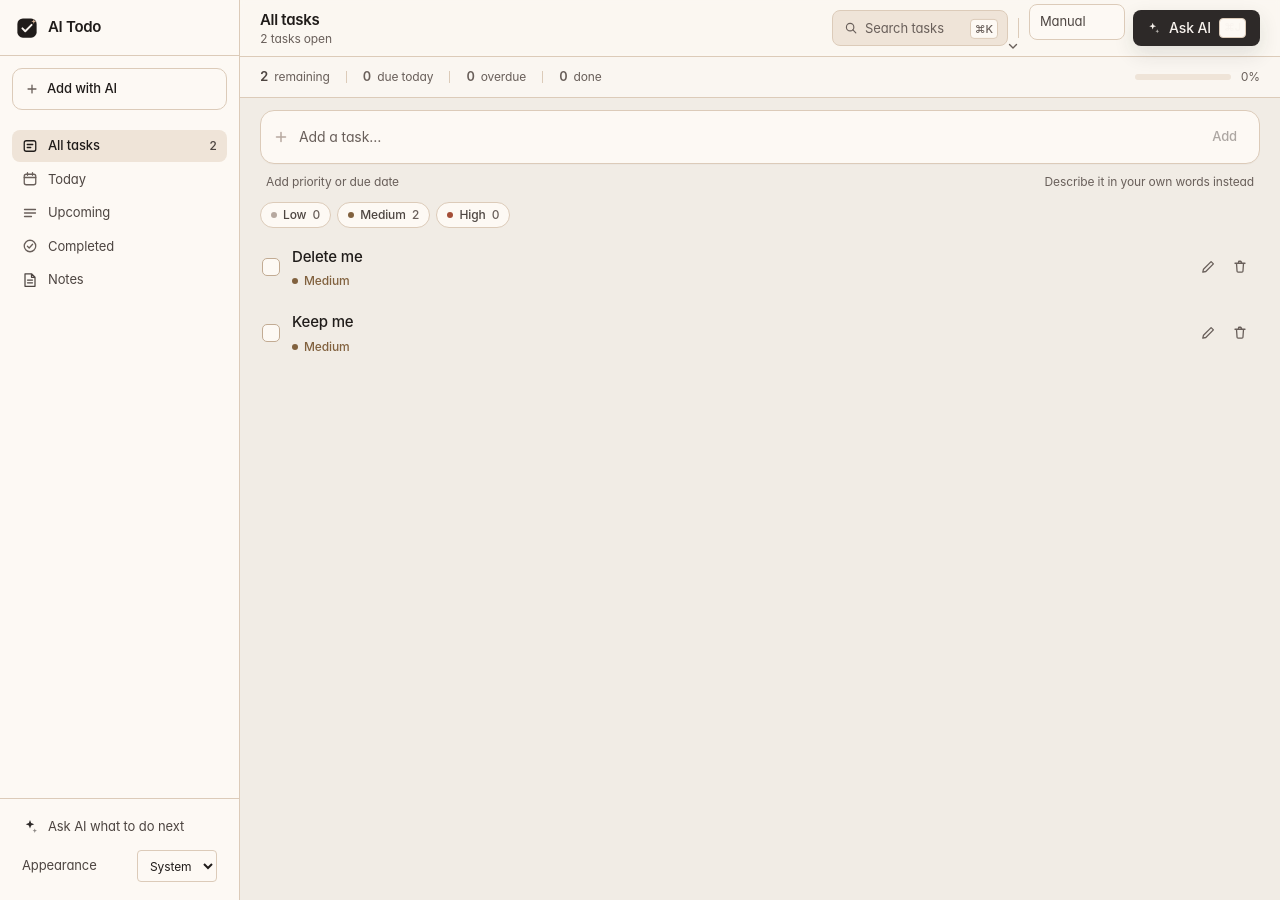
Test: delete a task › removes the task from the list and from storage
Click the button named "Delete \"Delete me\"" at (1240, 267), box left=1224, top=251, right=1256, bottom=283
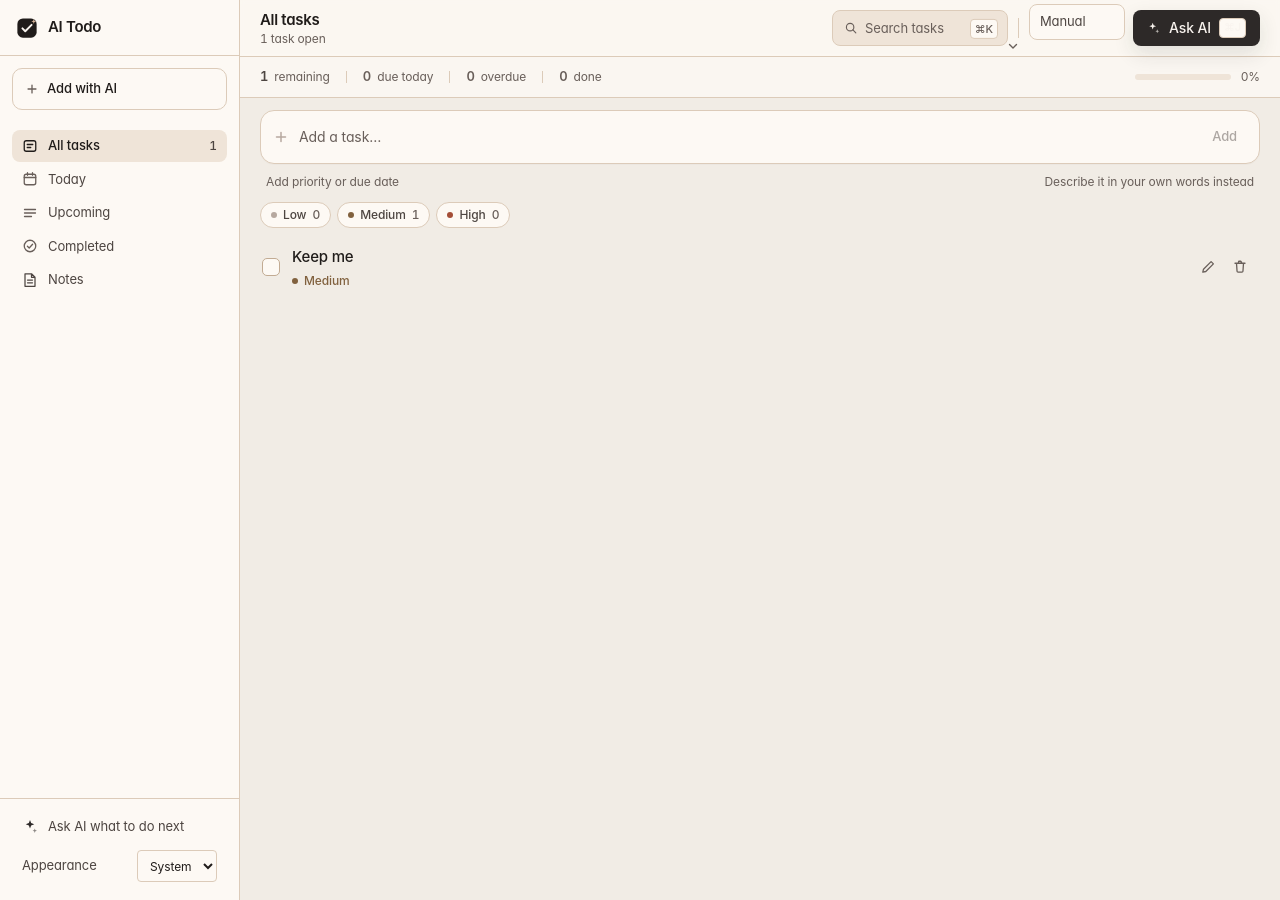
expect the text "Keep me" is shown: met, box left=292, top=246, right=354, bottom=266
expect the button "Delete me" is gone: met
